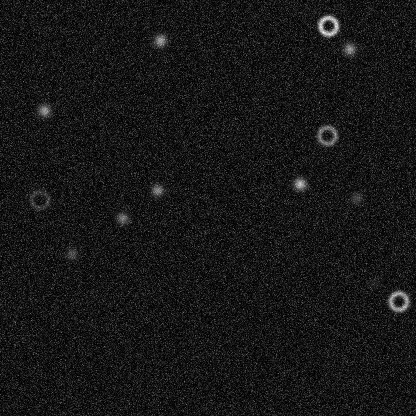Ring: (27, 187, 51, 211), (316, 13, 340, 37), (315, 123, 339, 147), (386, 289, 410, 313)
Spot: (348, 190, 364, 206), (341, 40, 357, 56), (365, 274, 381, 290), (36, 102, 52, 118), (152, 32, 168, 48), (149, 182, 165, 198), (291, 175, 307, 191), (63, 245, 79, 261), (114, 210, 130, 226)
